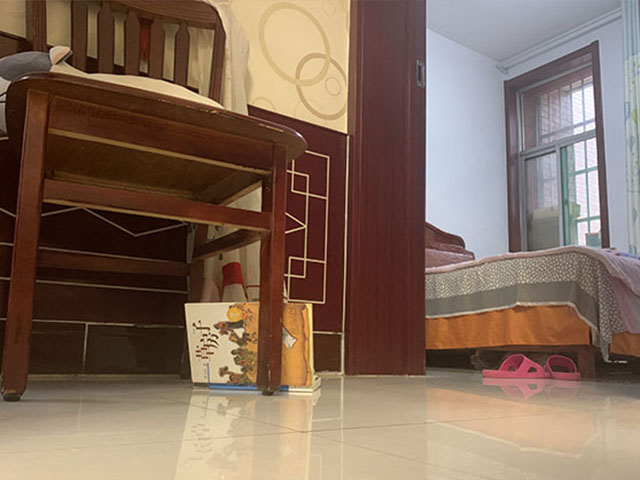bed: (424, 220, 640, 380)
book: (183, 300, 324, 395)
slippers: (479, 348, 547, 382), (545, 351, 584, 382)
stool: (1, 1, 310, 402)
